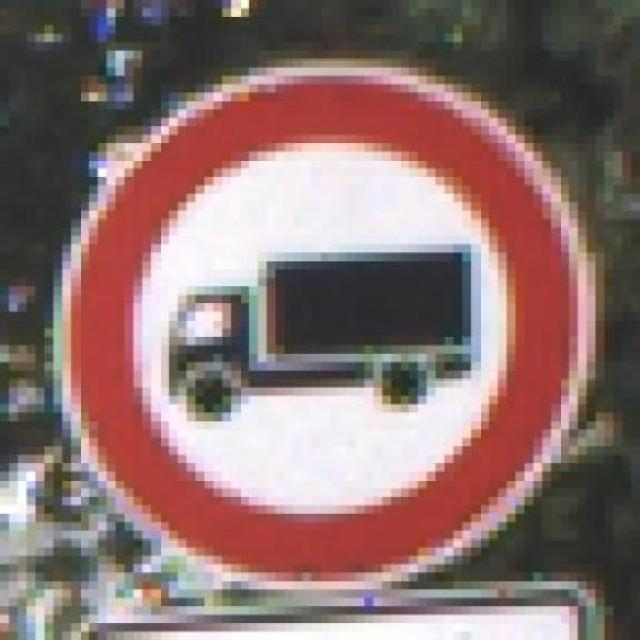Truck traffic is prohibited: (36, 41, 613, 582)
